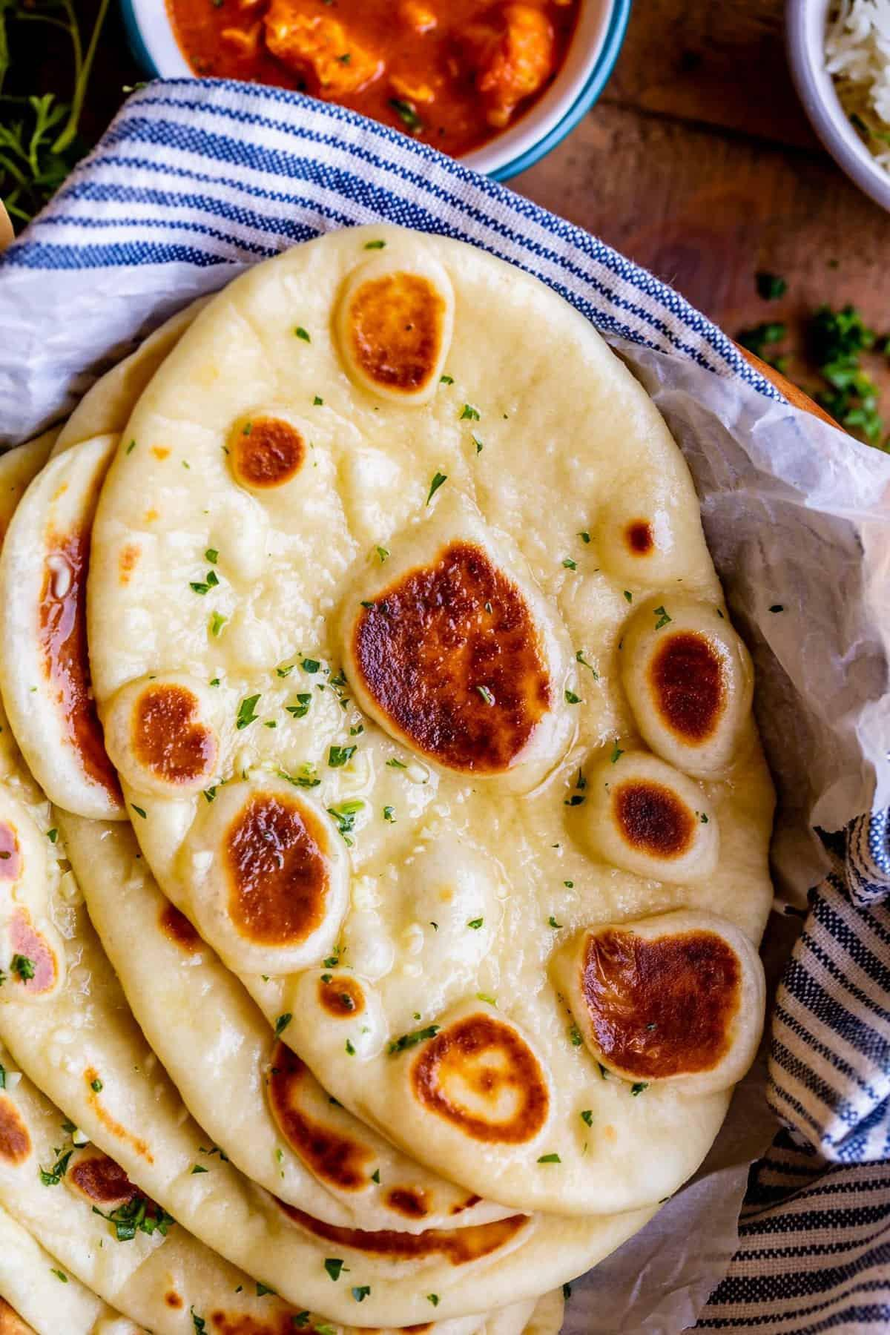Naan: (7, 250, 767, 1335)
